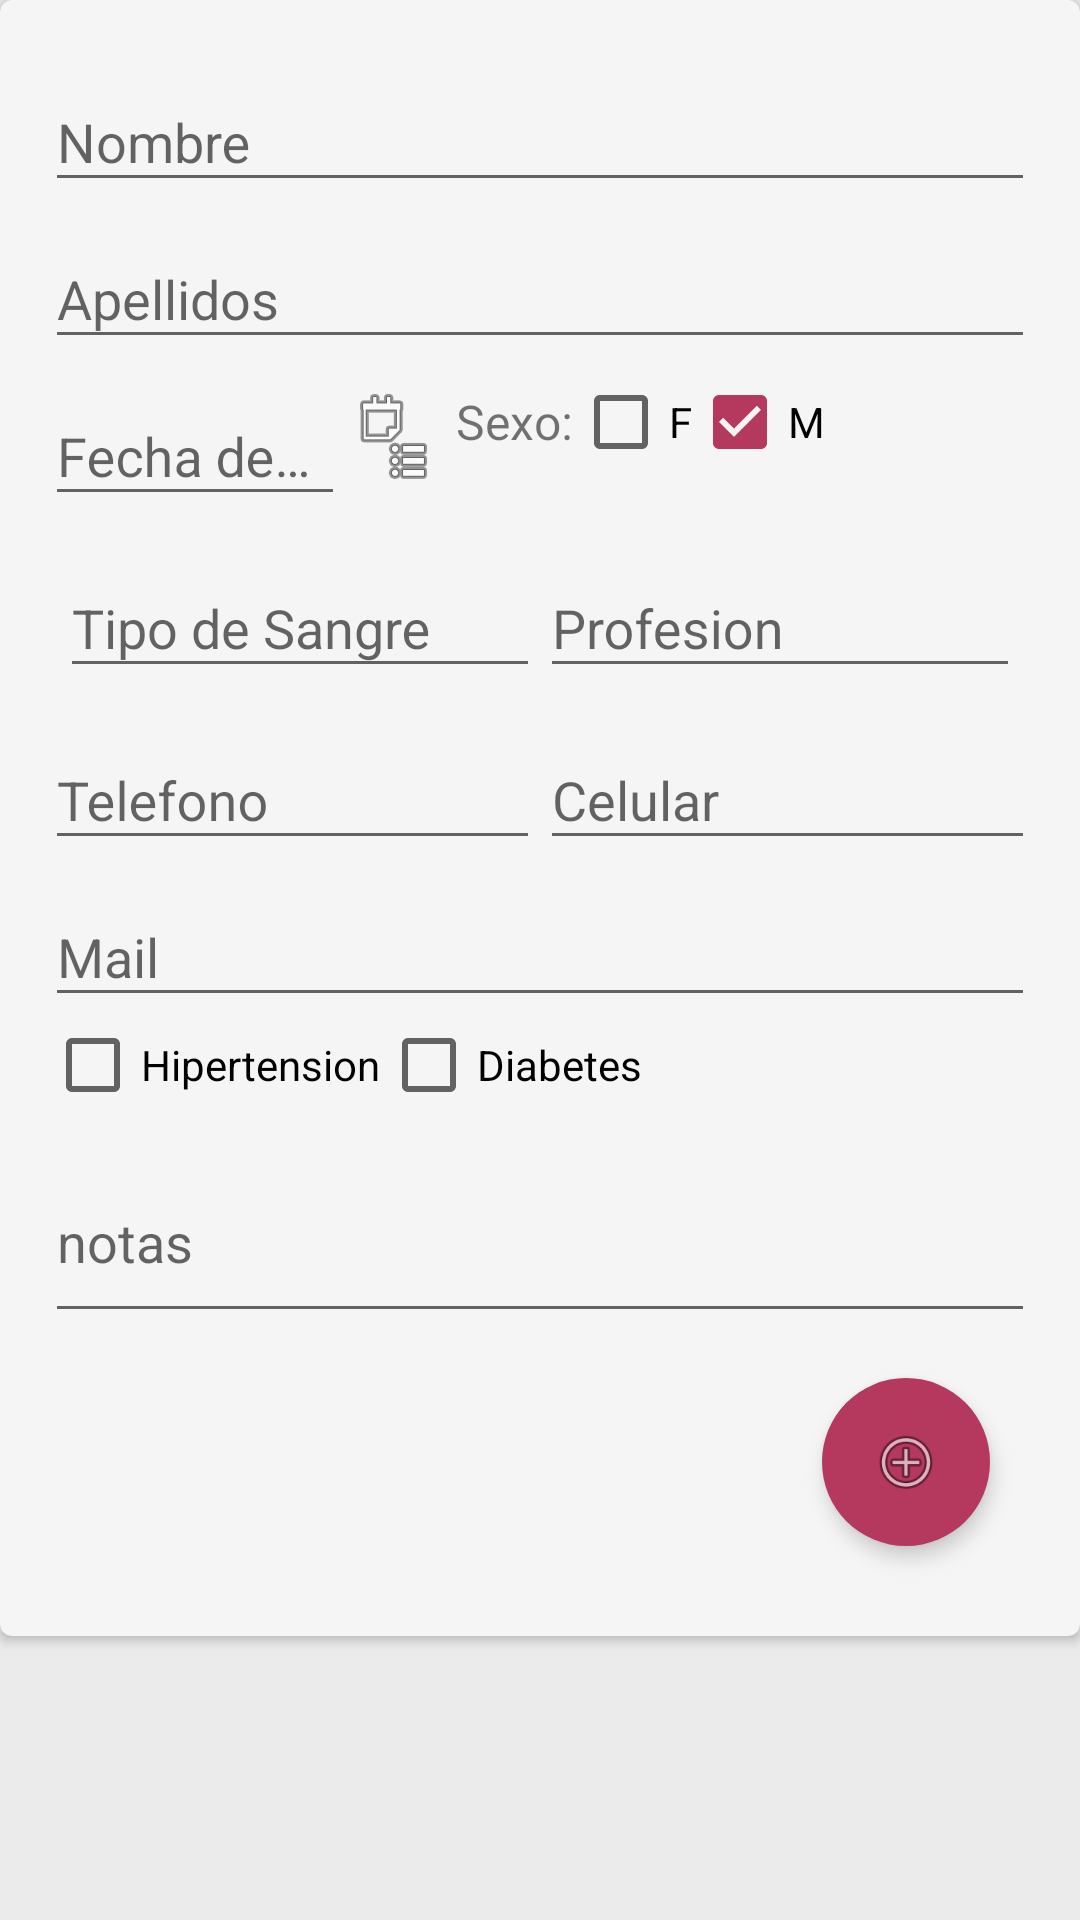

Icons on this 1080w x 1920h Android screen, each with the point to tap as point (x, y):
add: point (906, 1462)
agenda: point (393, 436)
